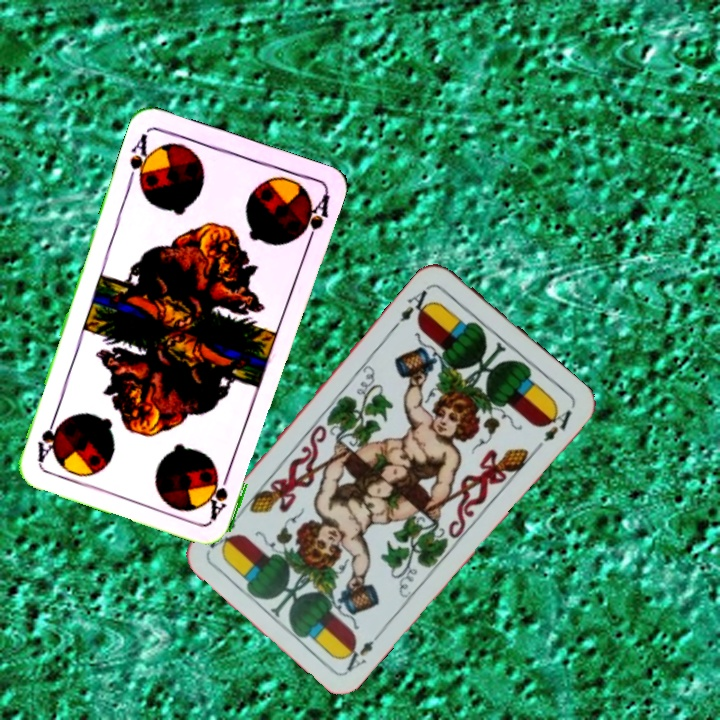EA: (338, 625, 386, 674), (390, 282, 435, 331)
SA: (123, 129, 157, 190), (204, 464, 234, 522)
